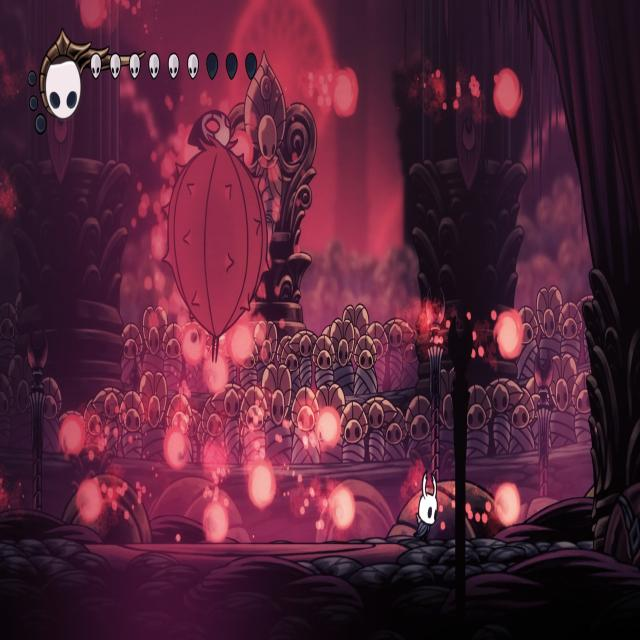Player: (412, 464, 440, 542)
Pufferfish: (157, 102, 270, 363)
Tiny Fireballs: (493, 70, 521, 121), (494, 310, 522, 360), (334, 70, 360, 120), (228, 321, 255, 368), (250, 460, 276, 508), (76, 479, 103, 524), (496, 482, 522, 526), (60, 415, 87, 457), (203, 501, 230, 543), (165, 428, 190, 471), (332, 487, 356, 530), (181, 324, 204, 367), (317, 406, 341, 447), (204, 356, 229, 395), (76, 0, 107, 30)
